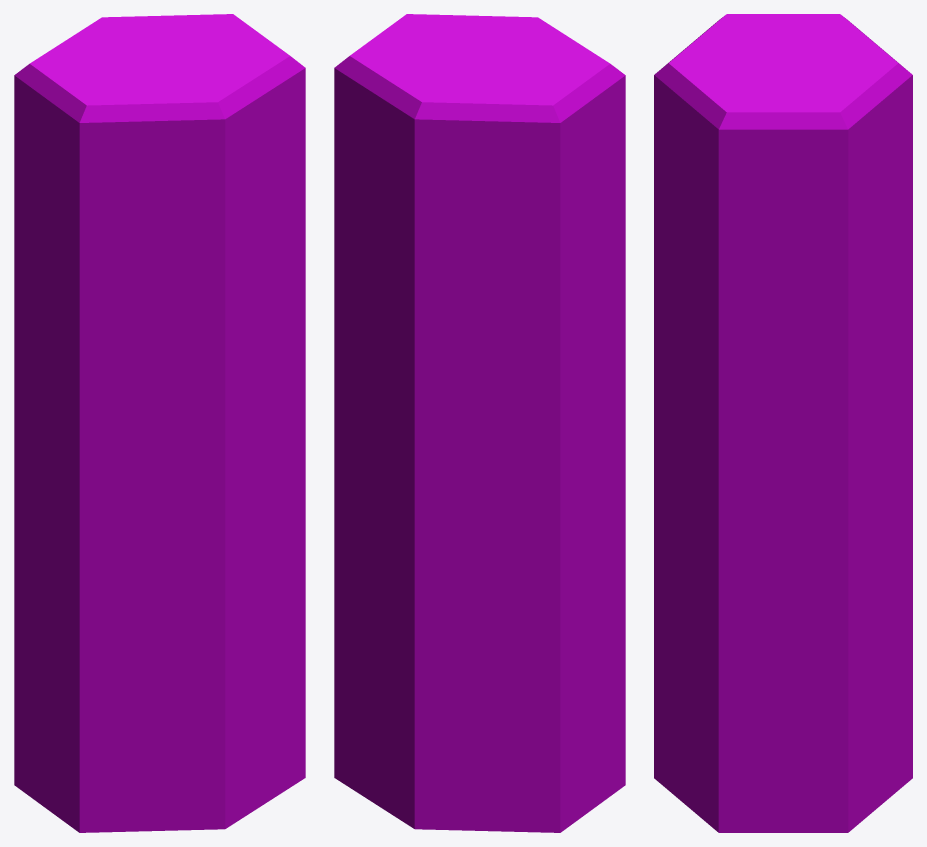
The model's file is Hexagon_V.fbx.
3 views of the same model, side by side, from view 1: azimuth 30°, elevation 25°; view 2: azimuth 150°, elevation 25°; view 3: azimuth 270°, elevation 25° (orthographic).
Parts seen in each view (by area): view 1: Hexagon_V; view 2: Hexagon_V; view 3: Hexagon_V.
Boxes of the visible parts, box(x1,y1,x2,y2) form: Hexagon_V: box(14, 14, 305, 832); Hexagon_V: box(334, 14, 625, 832); Hexagon_V: box(654, 14, 912, 832).
Size of the model in its own units: 100 by 305 by 100.
